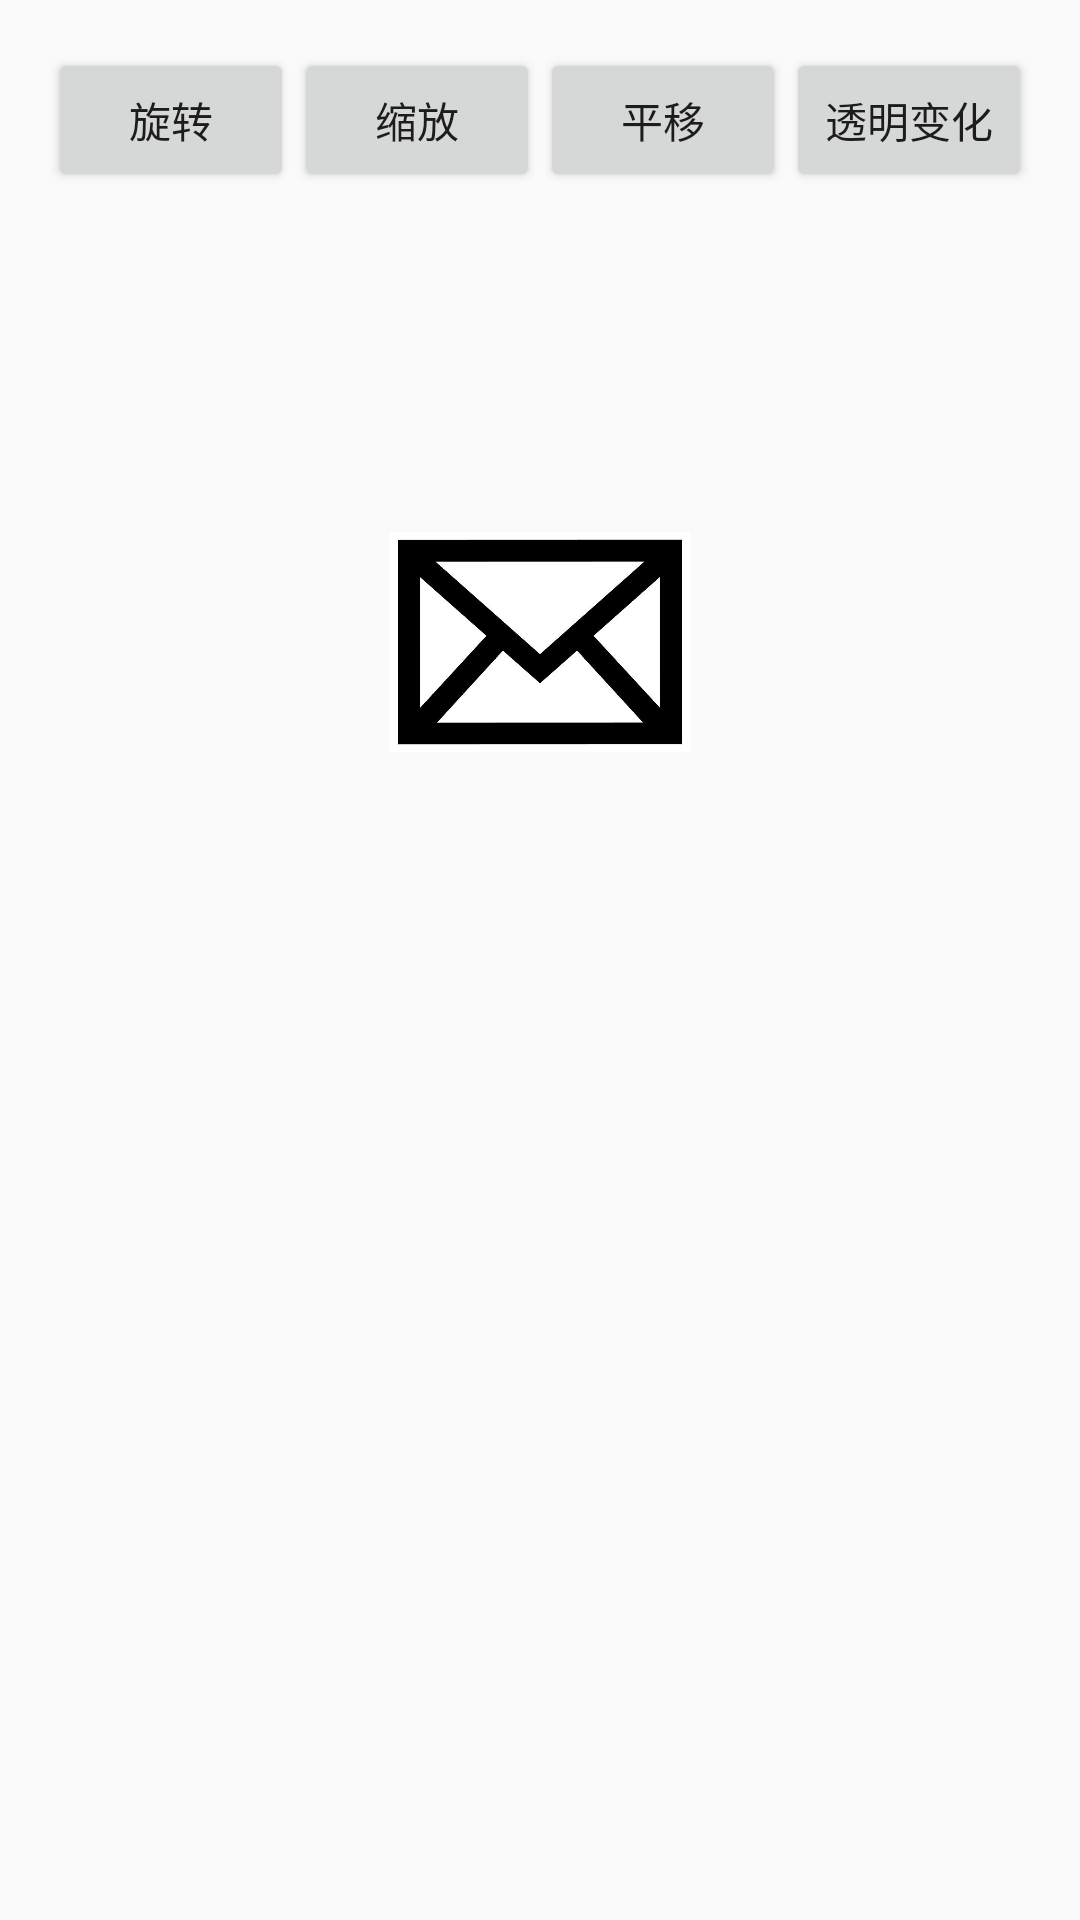

Named icons in this screenshot (1080*1920) and their bounding boxes, region(x1, y1, x2, y2):
email: region(398, 539, 682, 745)
